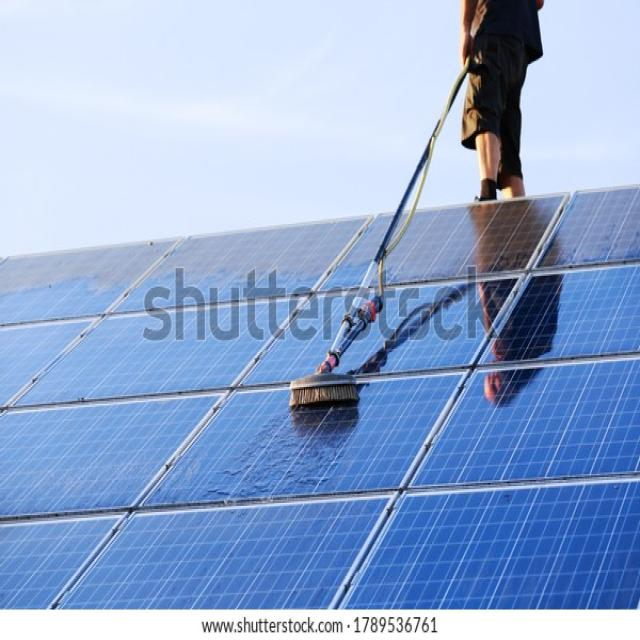clean-solar-panel: (1, 186, 640, 609)
